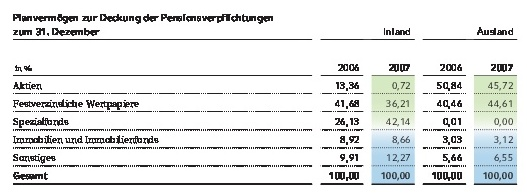table: (0, 0, 527, 196)
